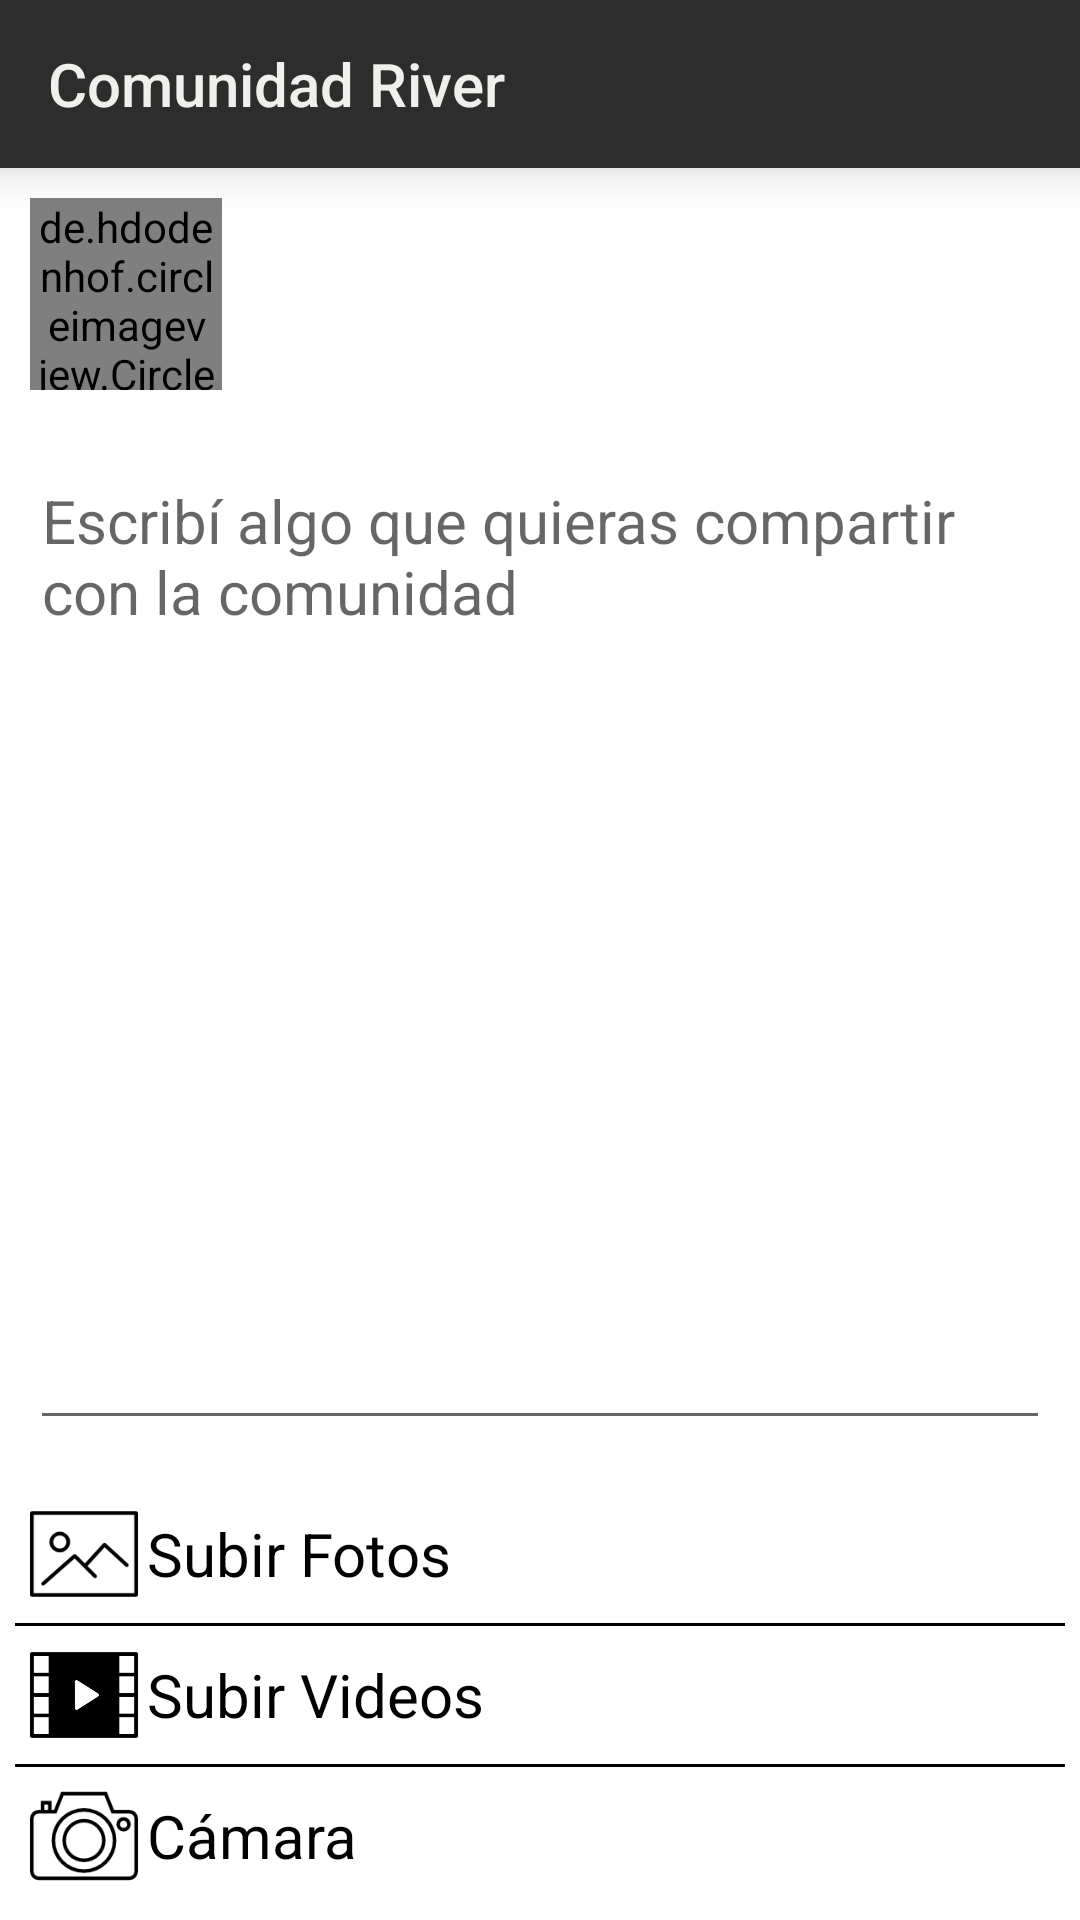

Where to tap for icons on this 1080x1920 app screen, as [x,y]:
camera: [84,1836]
images: [84,1554]
